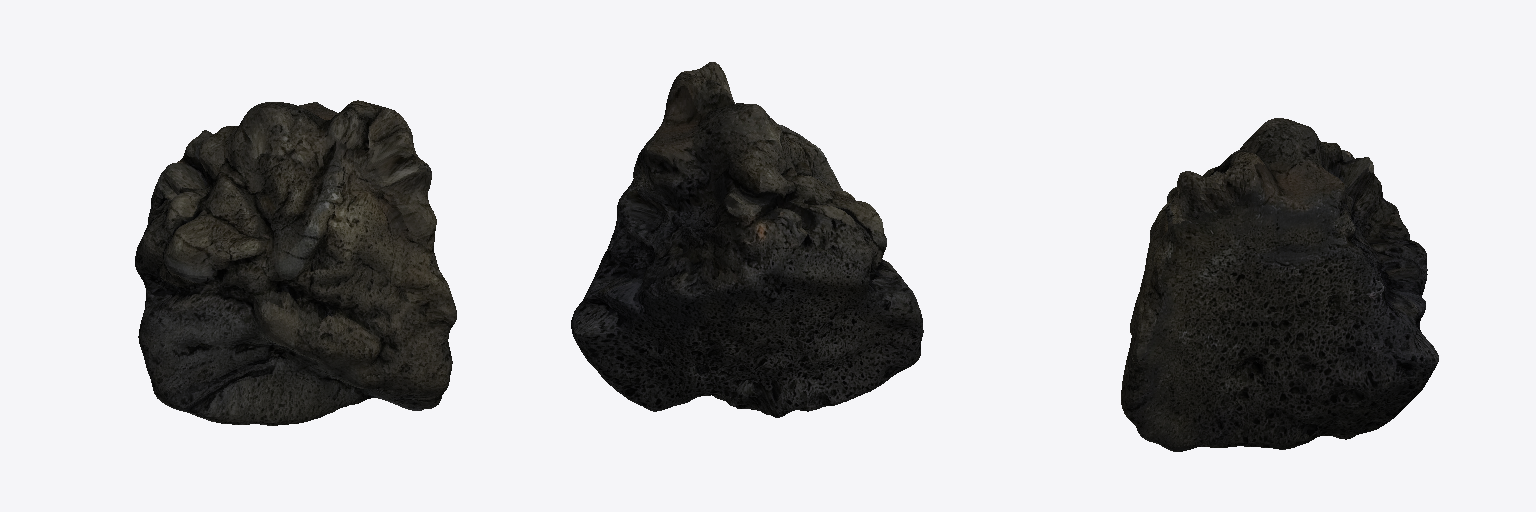
3 views of the same model, side by side, from view 1: azimuth 30°, elevation 25°; view 2: azimuth 150°, elevation 25°; view 3: azimuth 270°, elevation 25° (orthographic).
Parts seen in each view (by area): view 1: paricutin; view 2: paricutin; view 3: paricutin.
Boxes of the visible parts, box(x1,y1,x2,y2) form: paricutin: box(135, 100, 456, 425); paricutin: box(571, 62, 923, 417); paricutin: box(1121, 118, 1438, 451).
Size of the model in its own units: 0.6953 by 0.7223 by 0.7182.
1 materials, 1 textured.